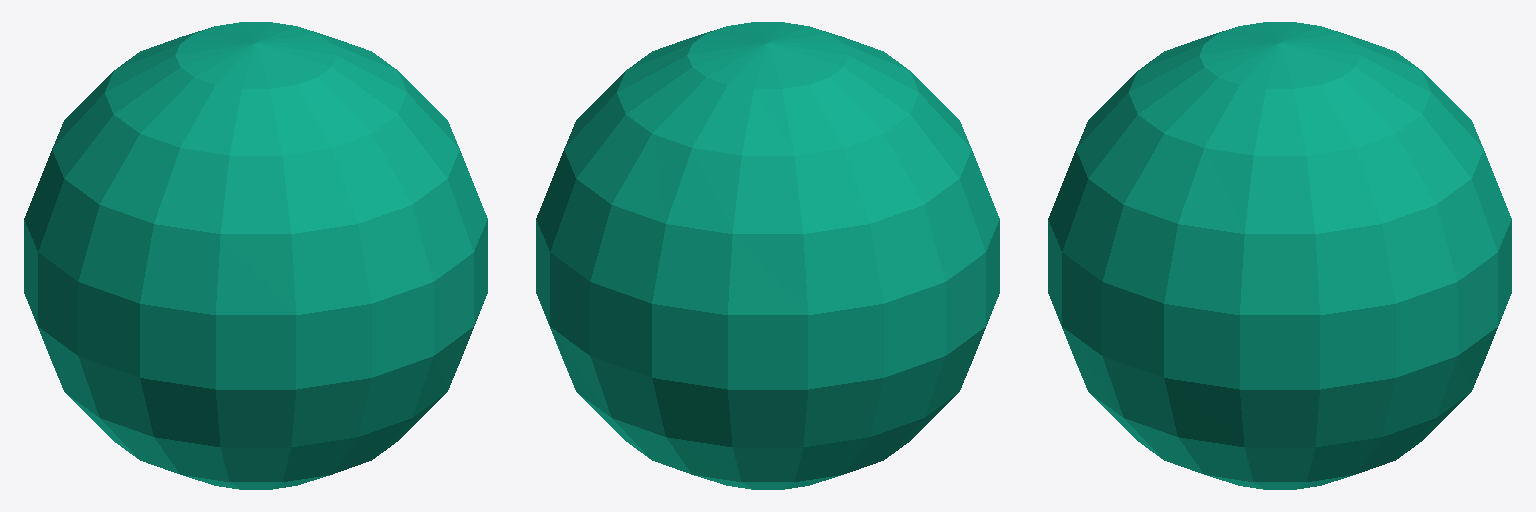
File: aniport_boll.obj
3 views of the same model, side by side, from view 1: azimuth 30°, elevation 25°; view 2: azimuth 150°, elevation 25°; view 3: azimuth 270°, elevation 25° (orthographic).
Visible parts, largest first — view 1: Sphere001; view 2: Sphere001; view 3: Sphere001.
Boxes of the visible parts, <box> form: Sphere001: <box>24,22,487,489</box>; Sphere001: <box>536,22,999,489</box>; Sphere001: <box>1048,22,1511,489</box>.
Size of the model in its own units: 0.1976 by 0.2036 by 0.2006.